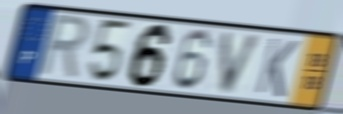5: (85, 18, 135, 84)
6: (125, 22, 175, 91), (172, 26, 213, 94)
K: (253, 36, 301, 101)
R: (34, 12, 92, 83)
V: (220, 29, 266, 97)
